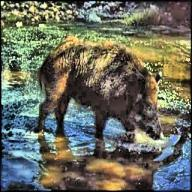boar: (36, 34, 164, 143)
